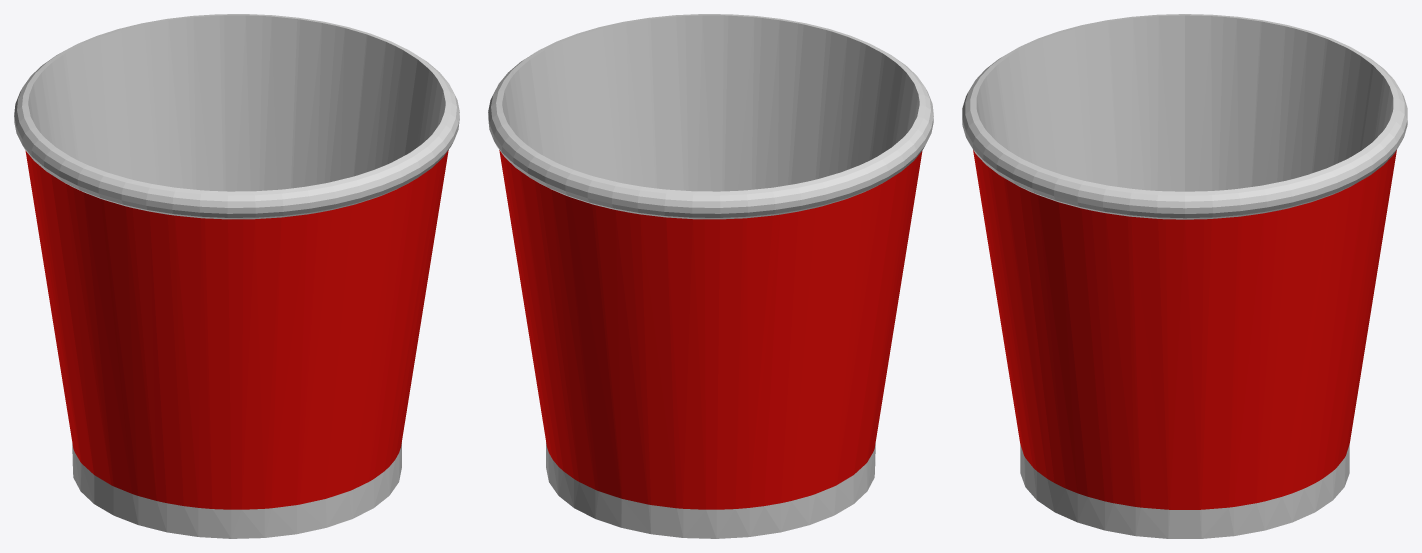
The model's file is red_paper_cup.dae.
3 renders of one model, left to right at view 1: azimuth 30°, elevation 25°; view 2: azimuth 150°, elevation 25°; view 3: azimuth 270°, elevation 25°, orthographic.
Parts seen in each view (by area): view 1: paper_cups; view 2: paper_cups; view 3: paper_cups.
Part boxes in pixels (<box>): paper_cups: <box>14,14,459,538</box>; paper_cups: <box>488,14,933,538</box>; paper_cups: <box>962,14,1407,538</box>.
Size of the model in its own units: 0.0662 by 0.0661 by 0.06.
